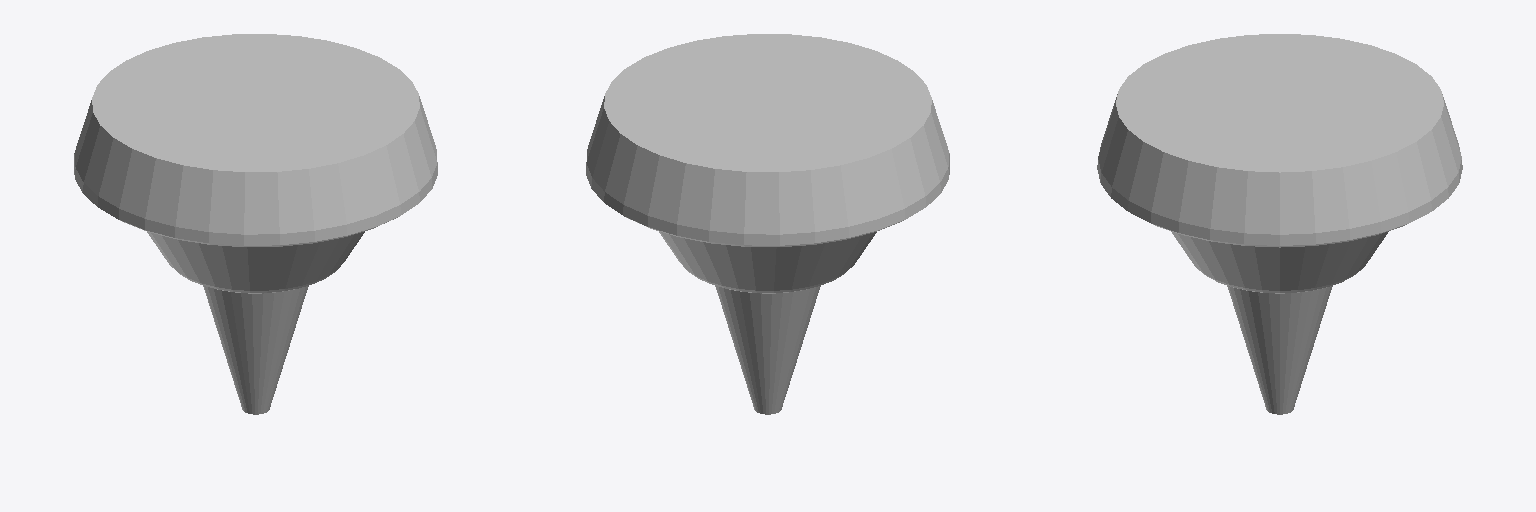
File: fire_cone.obj
The picture shows the model from 3 angles: view 1: azimuth 30°, elevation 25°; view 2: azimuth 150°, elevation 25°; view 3: azimuth 270°, elevation 25°; orthographic projection.
Parts seen in each view (by area): view 1: Cylinder.007_Cylinder.011; view 2: Cylinder.007_Cylinder.011; view 3: Cylinder.007_Cylinder.011.
Boxes of the visible parts, x1,y1,x2,y2 form: Cylinder.007_Cylinder.011: [74, 34, 437, 414]; Cylinder.007_Cylinder.011: [586, 34, 949, 414]; Cylinder.007_Cylinder.011: [1097, 34, 1462, 414].
Bounding box in the file's own units: 2.09 × 1.93 × 2.09.